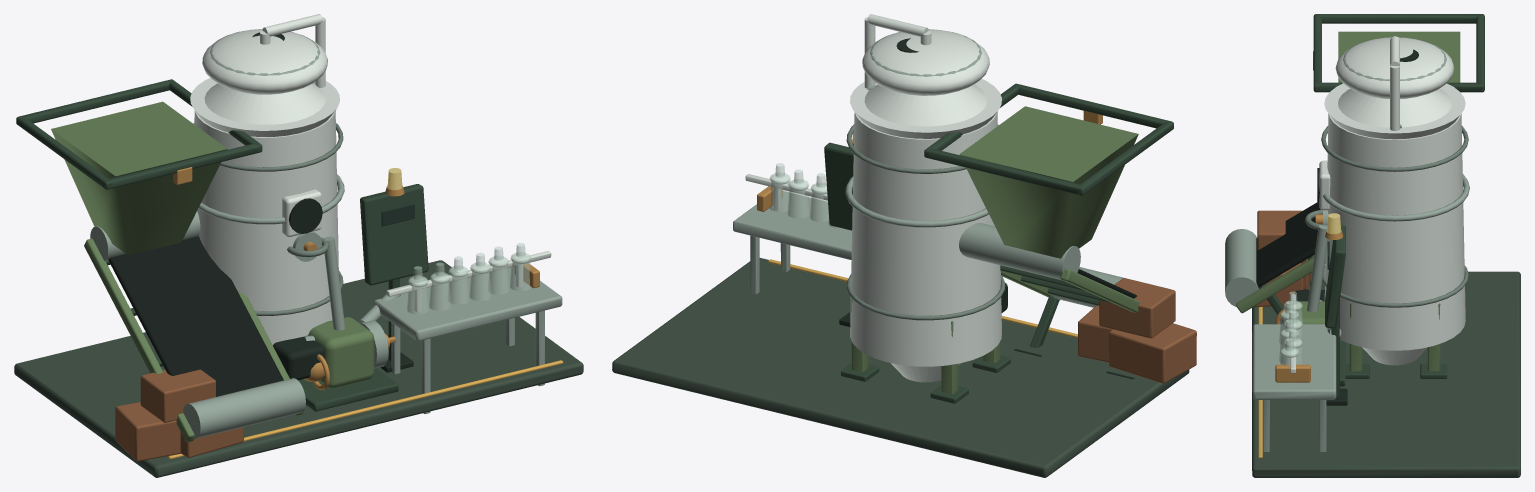
The model's file is processing.line.m1.lod1.glb.
3 renders of one model, left to right at view 1: azimuth 30°, elevation 25°; view 2: azimuth 150°, elevation 25°; view 3: azimuth 270°, elevation 25°, orthographic. The views are drawn at different scales.
Parts seen in each view (by area): view 1: processingFoundation, tankBody, hopperBody, conveyorBelt, bottlingTable, crateBody (×3), tankLid, controlPanelBody, conveyorRollerB, bottleGlass (×6), tankCone, pumpHousing (+19 smaller); view 2: processingFoundation, tankBody, hopperBody, crateBody (×3), tankLid, bottlingTable, tankCone, conveyorRollerA, tankShoulder, controlPanelBody, hopperRimBar1, hopperRimBar2 (+11 smaller); view 3: processingFoundation, tankBody, bottlingTable, tankLid, tankCone, conveyorBelt, tankShoulder, conveyorRollerB, hopperBody, hopperRimBar3, crateBody (×2), controlPanelBody (+21 smaller).
Boxes of the visible parts, bbox=[...] form: processingFoundation: bbox=[14, 260, 583, 477]; tankBody: bbox=[194, 111, 338, 345]; hopperBody: bbox=[51, 101, 227, 255]; conveyorBelt: bbox=[108, 236, 283, 396]; bottlingTable: bbox=[374, 266, 562, 341]; crateBody (×3): bbox=[115, 369, 243, 461]; tankLid: bbox=[202, 29, 327, 94]; controlPanelBody: bbox=[360, 184, 428, 285]; conveyorRollerB: bbox=[183, 378, 305, 438]; bottleGlass (×6): bbox=[407, 254, 531, 314]; tankCone: bbox=[204, 83, 325, 124]; pumpHousing: bbox=[308, 317, 374, 388]; processingFoundation: bbox=[612, 258, 1189, 477]; tankBody: bbox=[850, 112, 1001, 366]; hopperBody: bbox=[959, 106, 1138, 258]; crateBody (×3): bbox=[1078, 278, 1196, 383]; tankLid: bbox=[862, 29, 989, 95]; bottlingTable: bbox=[733, 191, 851, 260]; tankCone: bbox=[864, 84, 987, 126]; conveyorRollerA: bbox=[959, 223, 1080, 280]; tankShoulder: bbox=[850, 78, 1001, 138]; controlPanelBody: bbox=[824, 142, 853, 230]; hopperRimBar1: bbox=[924, 149, 1086, 195]; hopperRimBar2: bbox=[1014, 83, 1173, 129]; processingFoundation: bbox=[1252, 271, 1520, 477]; tankBody: bbox=[1324, 113, 1465, 350]; bottlingTable: bbox=[1252, 324, 1336, 399]; tankLid: bbox=[1335, 37, 1454, 98]; tankCone: bbox=[1338, 88, 1451, 127]; conveyorBelt: bbox=[1256, 202, 1320, 287]; tankShoulder: bbox=[1324, 83, 1465, 139]; conveyorRollerB: bbox=[1225, 229, 1258, 306]; hopperBody: bbox=[1338, 31, 1460, 82]; hopperRimBar3: bbox=[1314, 14, 1483, 23]; crateBody (×2): bbox=[1254, 210, 1303, 306]; controlPanelBody: bbox=[1325, 225, 1345, 328].
Bounding box in the file's own units: 6.86 × 5.27 × 4.18.
